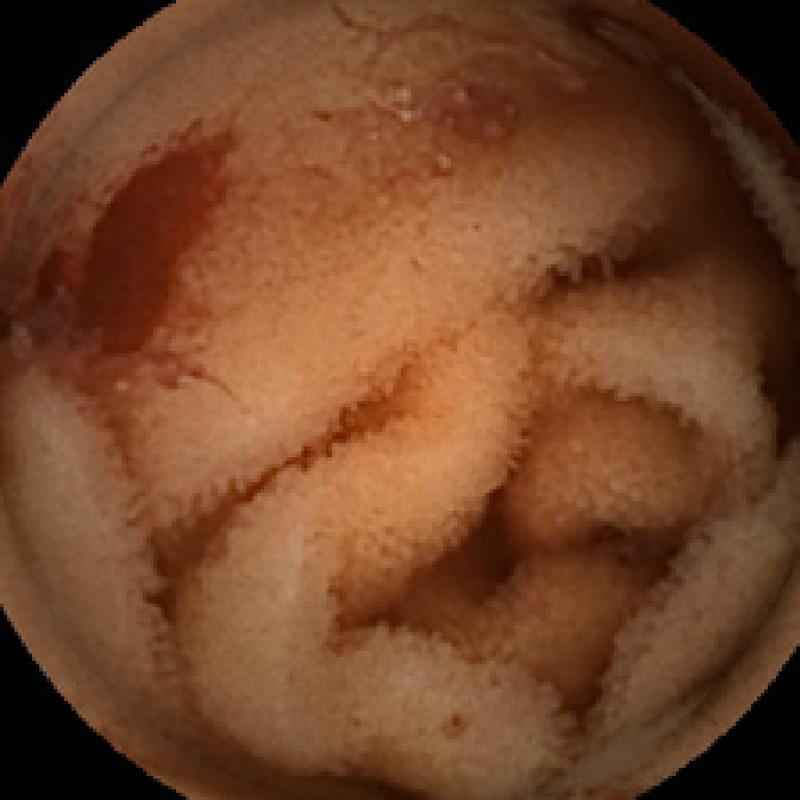bleeding: (36, 121, 243, 361)
